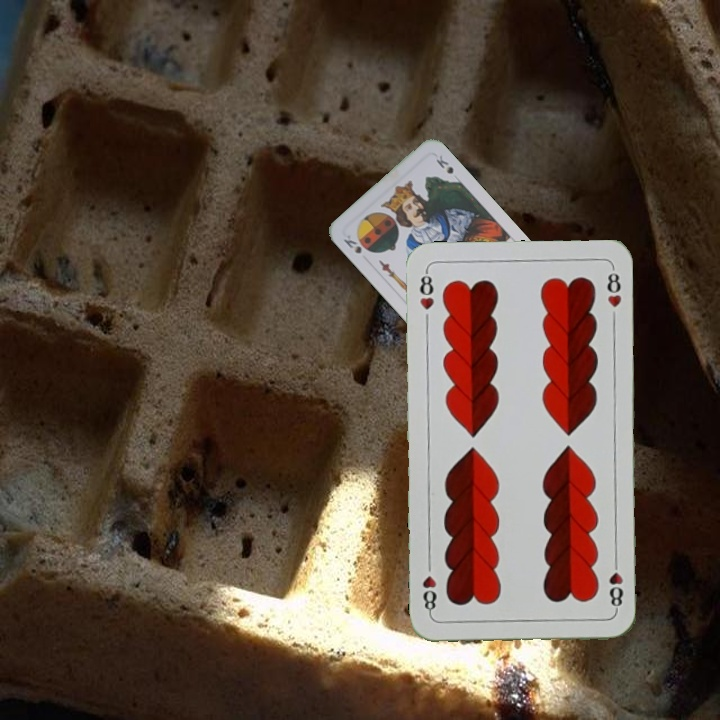H8: (605, 554, 626, 613), (416, 267, 437, 313)
SK: (339, 231, 364, 256)
